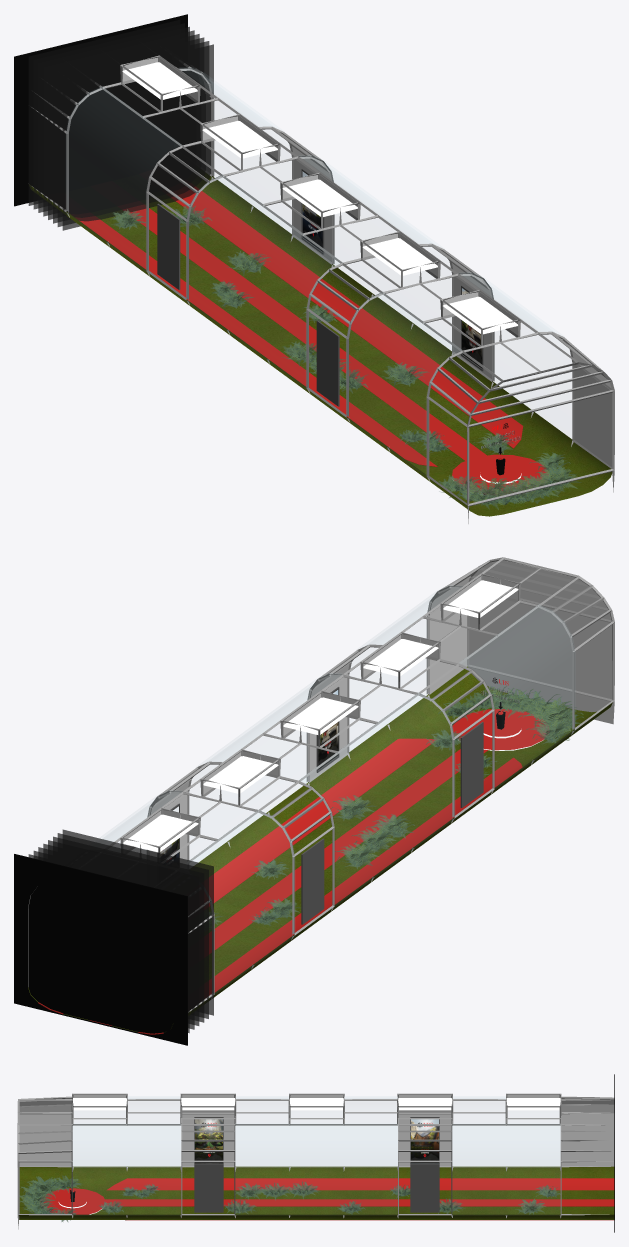
File: ubs_inbetweenspace_geo.gltf
The picture shows the model from 3 angles, top to bottom: view 1: azimuth 30°, elevation 25°; view 2: azimuth 150°, elevation 25°; view 3: azimuth 270°, elevation 25°; orthographic projection. The views are drawn at different scales.
Visible parts, largest first — view 1: Plane, Cube.003, Cube, Cube.005, Cube.002, Cube.004, Plane.001, Cube.001, Circle, Model_9x16_vert, Model_9x16_vert.001, Model_Indoor_plant.021 (+2 smaller); view 2: Cube, Plane.001, Cube.003, Cube.005, Plane, Cube.002, Cube.004, Cube.001, Circle, Model_9x16_vert.001, Model_9x16_vert, Model_Indoor_plant.021 (+1 smaller); view 3: Cube.003, Cube, Cube.001, Cube.005, Cube.004, Cube.002, Model_9x16_vert.002, Model_9x16_vert.003, Circle, Model_9x16_vert, Model_9x16_vert.001, Model_Indoor_plant.021 (+9 smaller).
Part boxes in pixels (x1,y1,x2,y2): Plane: (28,19,213,230); Cube.003: (29,173,612,516); Cube: (31,55,614,523); Cube.005: (75,186,523,466); Cube.002: (122,62,517,334); Cube.004: (123,204,551,507); Plane.001: (14,14,187,206); Cube.001: (204,76,553,350); Circle: (452,454,548,494); Model_9x16_vert: (316,320,339,406); Model_9x16_vert.001: (157,203,180,289); Model_Indoor_plant.021: (454,478,520,509); Cube: (28,557,614,1012); Plane.001: (14,854,187,1045); Cube.003: (28,666,612,1032); Cube.005: (38,738,522,1034); Plane: (28,829,213,1033); Cube.002: (123,580,518,852); Cube.004: (90,698,546,1025); Cube.001: (102,594,436,861); Circle: (452,709,548,750); Model_9x16_vert.001: (301,838,324,924); Model_9x16_vert: (460,722,483,807); Model_Indoor_plant.021: (518,699,583,731); Cube.003: (18,1166,614,1219); Cube: (17,1093,614,1229); Cube.001: (73,1098,559,1166); Cube.005: (106,1178,614,1220); Cube.004: (19,1199,614,1206); Cube.002: (72,1098,560,1110); Model_9x16_vert.002: (194,1164,223,1212); Model_9x16_vert.003: (410,1164,439,1212); Circle: (40,1188,106,1214); Model_9x16_vert: (194,1117,223,1164); Model_9x16_vert.001: (410,1117,439,1164); Model_Indoor_plant.021: (21,1176,64,1197).
Size of what is drawn, in the model's own units: 13.67 by 11.86 by 60.46.
Materials: 14 (7 with a texture image).
